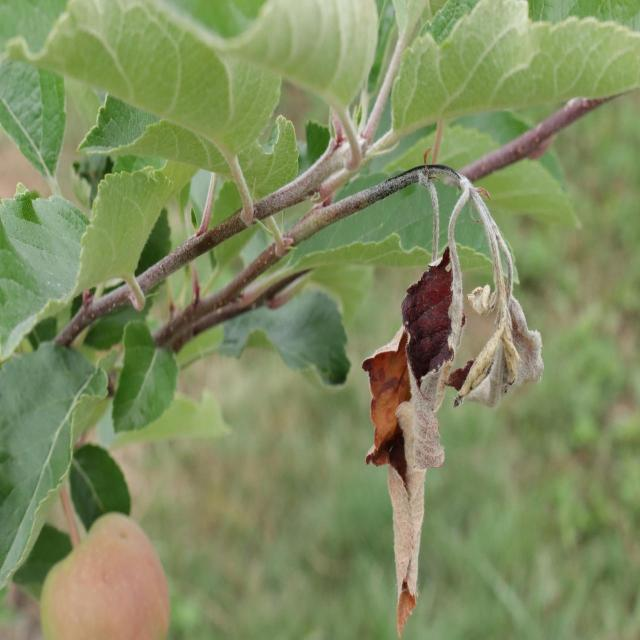-FireBlight-: (365, 179, 547, 623)
